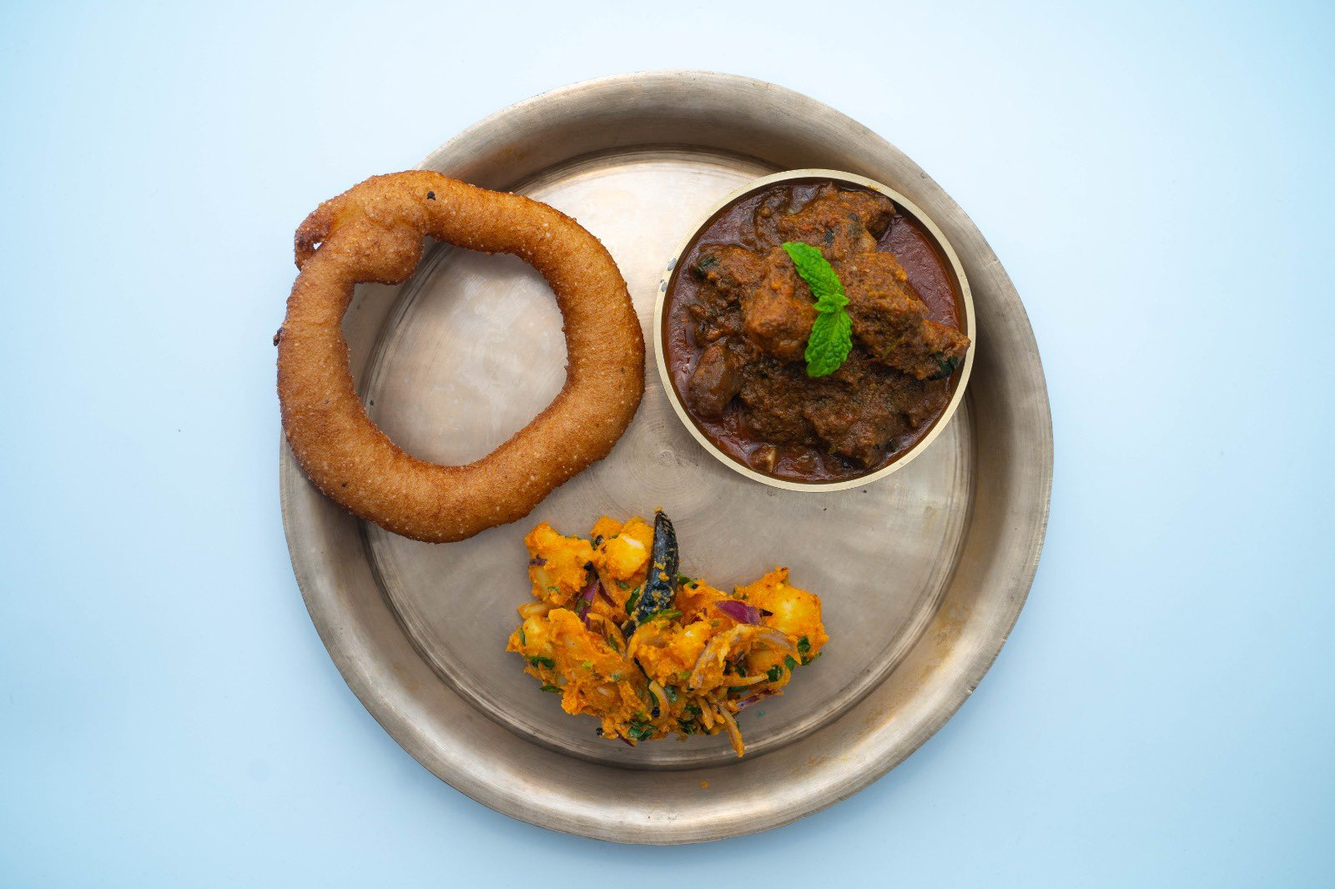sel_roti: (282, 167, 647, 542)
